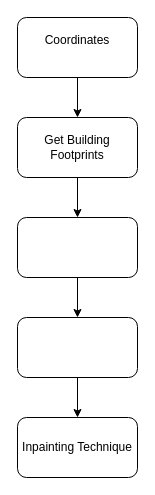
This 155x495 diagram has some shape labels left out. Each missing label, with the centre of its shape:
Map on Satellite View Images: the point at 77,247
Segmentation model for trees: the point at 77,347
